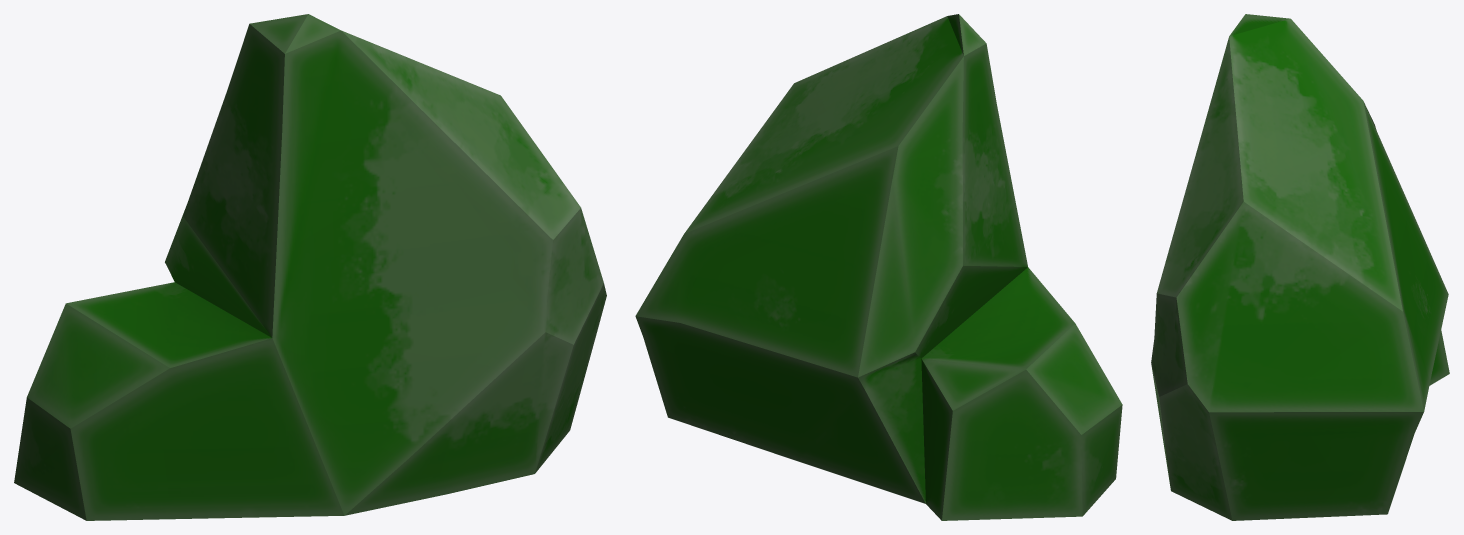
File: Rock_03_01.fbx
3 views of the same model, side by side, from view 1: azimuth 30°, elevation 25°; view 2: azimuth 150°, elevation 25°; view 3: azimuth 270°, elevation 25° (orthographic). The views are drawn at different scales.
Visible parts, largest first — view 1: Rock_03_01; view 2: Rock_03_01; view 3: Rock_03_01.
Part boxes in pixels (x1,y1,x2,y2): Rock_03_01: (14,14,606,520); Rock_03_01: (635,14,1122,520); Rock_03_01: (1151,14,1449,520).
Bounding box in the file's own units: 2.04 × 1.89 × 1.25.
